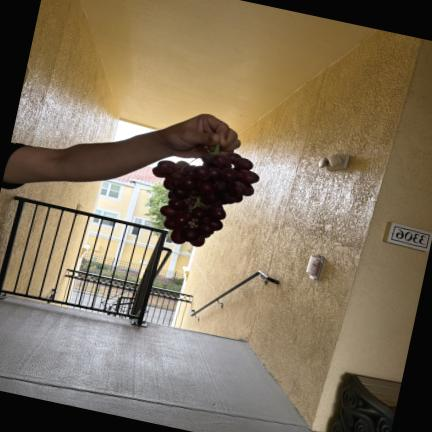grape_cluster: (152, 143, 259, 247)
